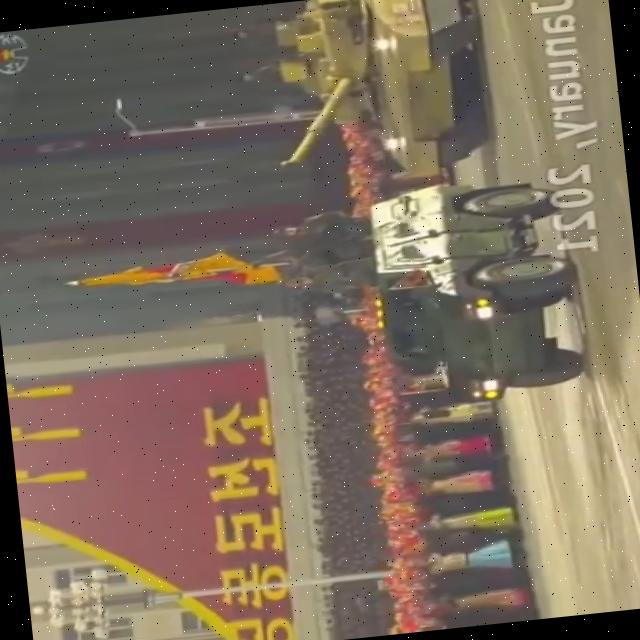north tank: (211, 0, 513, 203)
